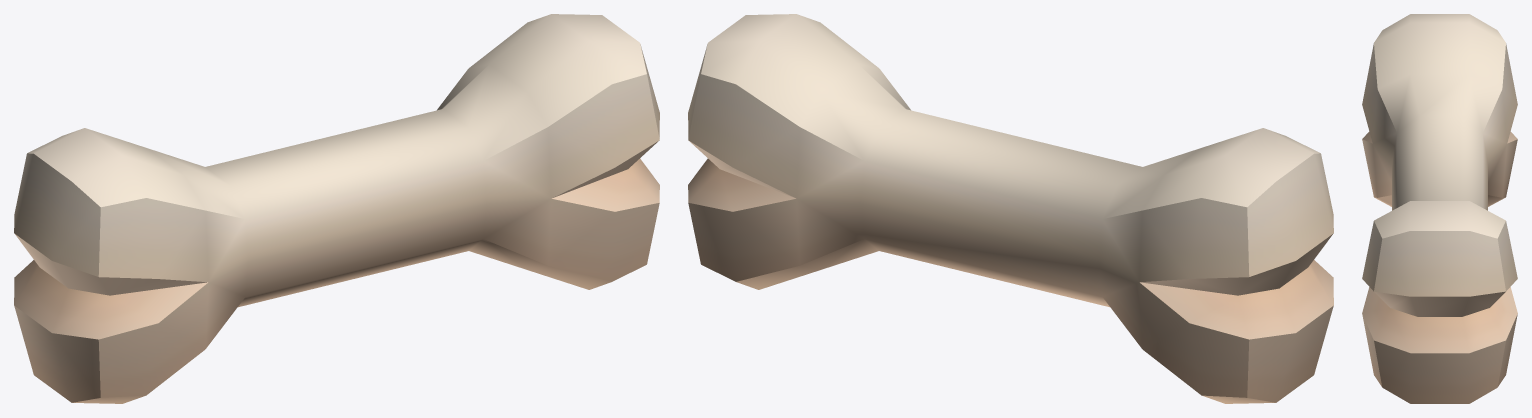
File: bone.glb
3 renders of one model, left to right at view 1: azimuth 30°, elevation 25°; view 2: azimuth 150°, elevation 25°; view 3: azimuth 270°, elevation 25°, orthographic. The views are drawn at different scales.
Parts seen in each view (by area): view 1: bone_A; view 2: bone_A; view 3: bone_A.
Part boxes in pixels (x1,y1,x2,y2): bone_A: [14, 14, 659, 403]; bone_A: [688, 14, 1333, 403]; bone_A: [1362, 14, 1517, 403].
Bounding box in the file's own units: 0.707 × 0.2761 × 0.2007.
Materials: 1 (1 with a texture image).
